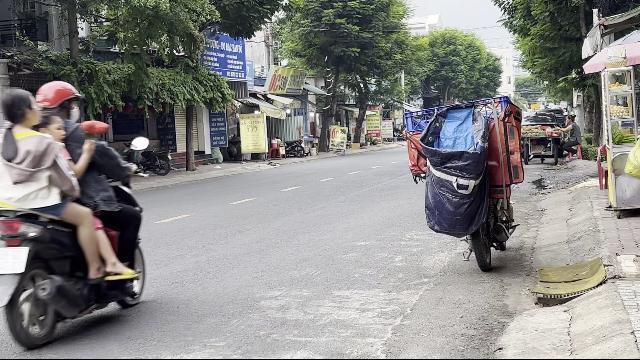helmet: (33, 80, 85, 124)
licenseplate: (0, 246, 26, 272)
motorcyclist: (0, 79, 150, 347)
nohelmet: (0, 88, 36, 128)
